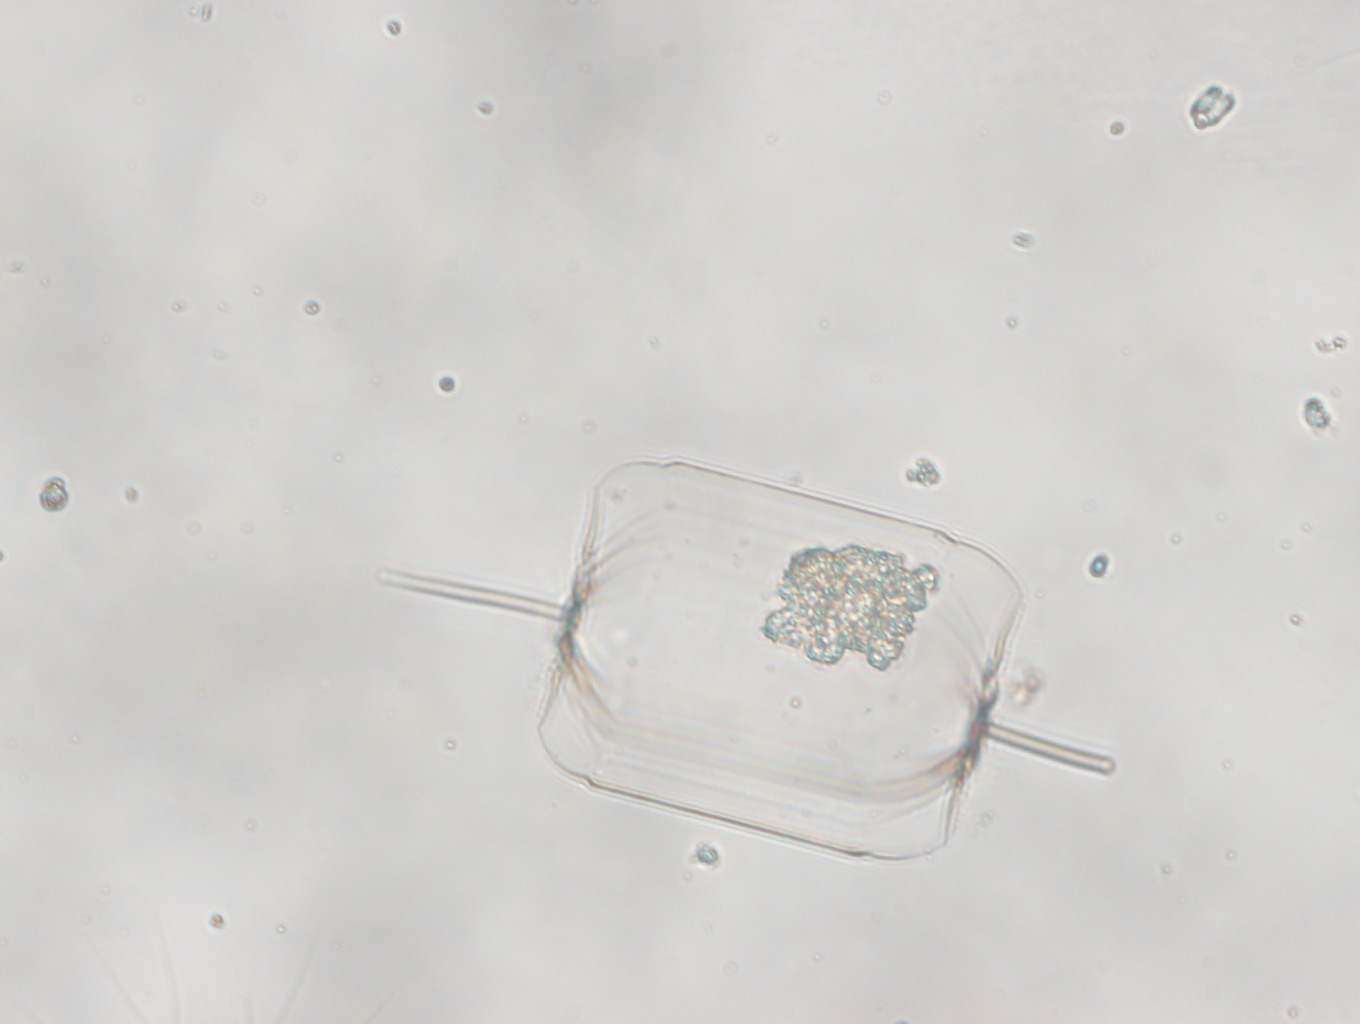ditylum: (380, 459, 1117, 861)
